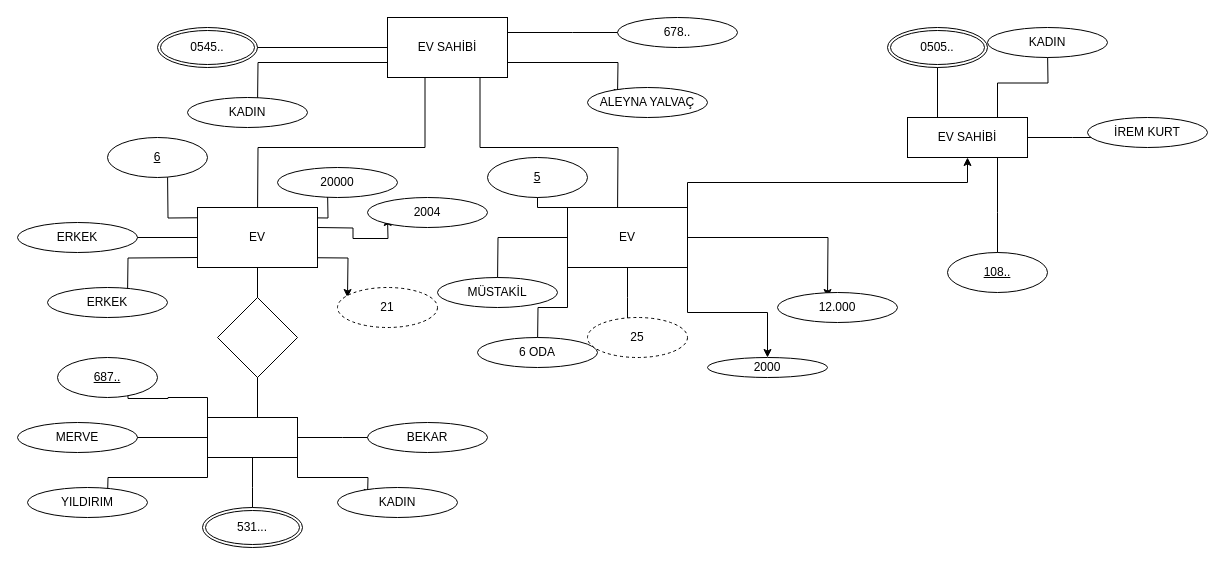
The diagram is 1225 pixels wide and 565 high, and some of its shapes have lost their labels. The centre of each missing label's shape, as x and y in pixels:
"KİRACI" goes at (252,437).
"KİRALAR" goes at (257,337).
